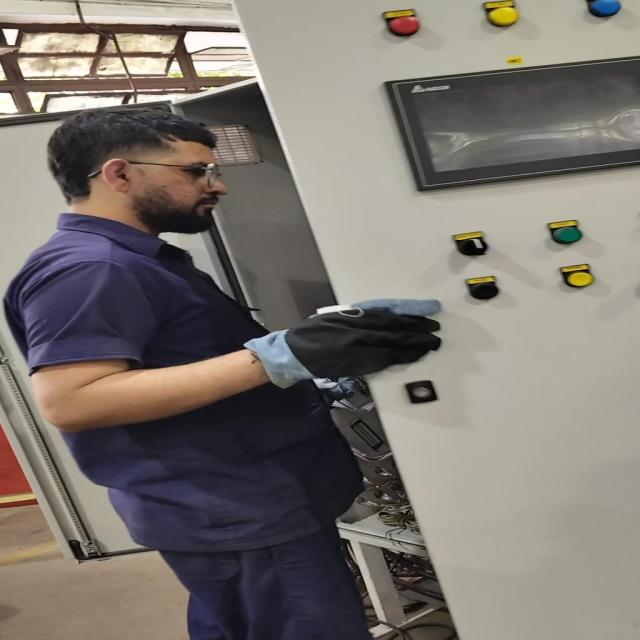Gloves-Detection: (238, 280, 442, 379)
